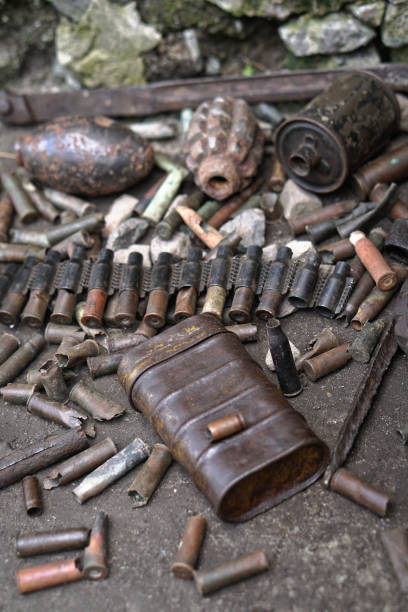e1: (277, 70, 403, 189), (181, 95, 261, 198)
